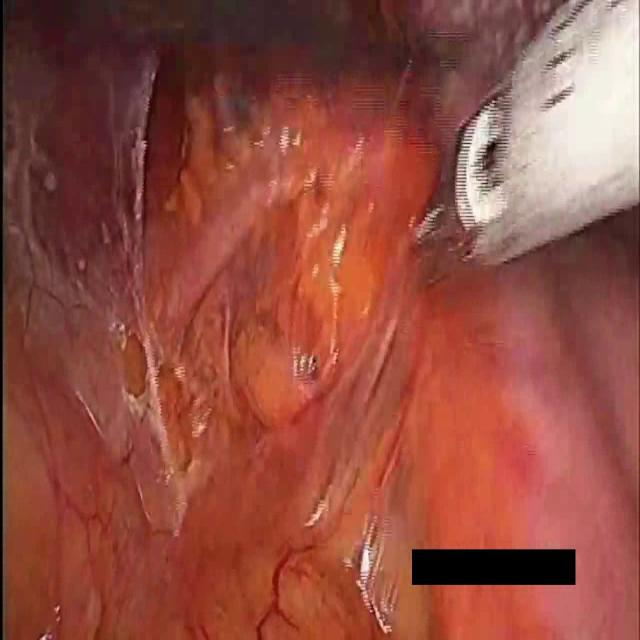surgical-tool: (408, 0, 640, 290)
